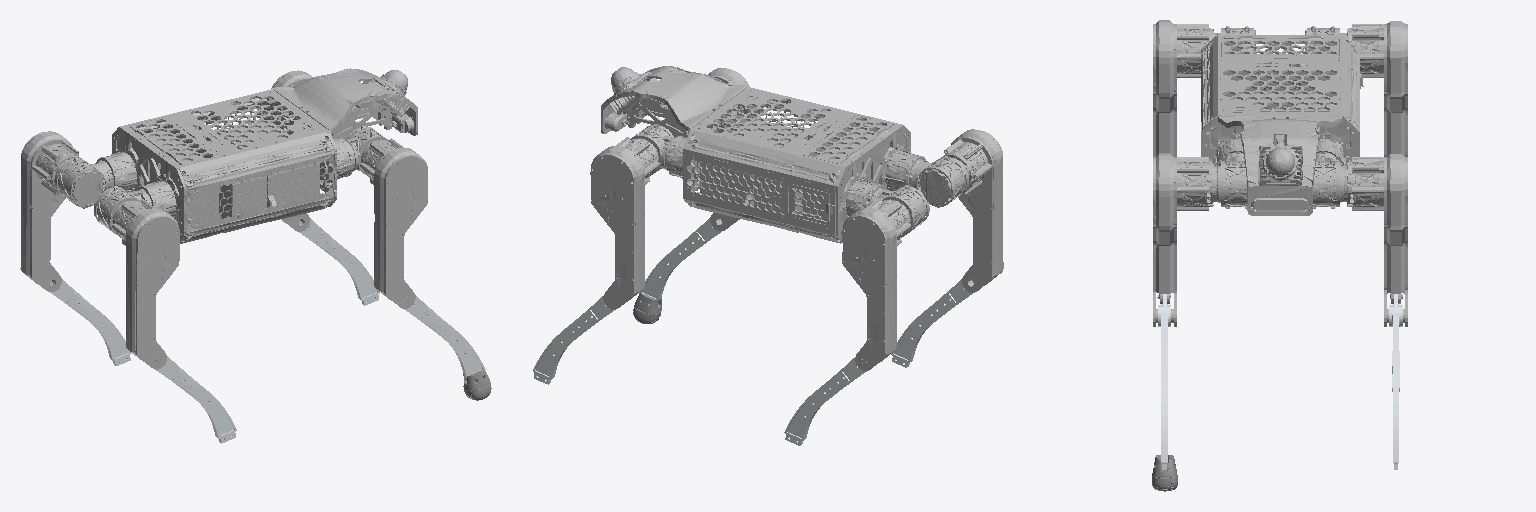
The robot description file, URDF, robot "XLL":
<?xml version='1.0' encoding='utf-8'?>
<robot name="XLL">
  <link name="base">
    <inertial>
      <origin xyz="0.0558821908081006 0.000212772709759213 -0.00906688985785417" rpy="0 0 0" />
      <mass value="12.4033074559808" />
      <inertia ixx="0.033979523541636" ixy="1.59695838267589E-05" ixz="4.89313670215622E-05" iyy="0.0281597859477583" iyz="-2.99195165278591E-08" izz="0.0493041434124839" />
    </inertial>
    <visual>
      <origin xyz="0 0 0" rpy="0 0 0" />
      <geometry>
        <mesh filename="../meshes/base.STL" />
      </geometry>
      <material name="">
        <color rgba="0.752941176470588 0.752941176470588 0.752941176470588 1" />
      </material>
    </visual>
    <collision>
      <origin xyz="0 0 0" rpy="0 0 0" />
      <geometry>
        <box size="0.3 0.23 0.114" />
      </geometry>
    </collision>
    <collision>
      <origin xyz="0.17 0 0" rpy="0 0 0" />
      <geometry>
        <box size="0.04 0.16 0.06" />
      </geometry>
    </collision>
    <collision>
      <origin xyz="-0.17 0 0" rpy="0 0 0" />
      <geometry>
        <box size="0.04 0.16 0.06" />
      </geometry>
    </collision>
    <collision>
      <origin xyz="0.265 0 0.03" rpy="0 0 0" />
      <geometry>
        <box size="0.15 0.04 0.08" />
      </geometry>
    </collision>
  </link>
  <link name="FL_hip">
    <inertial>
      <origin xyz="-0.0030788309760387 -0.000192986711423537 6.385398461815E-07" rpy="0 0 0" />
      <mass value="0.273321358253919" />
      <inertia ixx="0.000170469658066807" ixy="1.09328908943914E-06" ixz="1.27614632712706E-09" iyy="0.000153247164860105" iyz="1.51107150923288E-09" izz="0.00013018859134511" />
    </inertial>
    <visual>
      <origin xyz="0 0 0" rpy="0 0 0" />
      <geometry>
        <mesh filename="../meshes/FL_hip.STL" />
      </geometry>
      <material name="">
        <color rgba="0.752941176470588 0.752941176470588 0.752941176470588 1" />
      </material>
    </visual>
    <collision>
      <origin xyz="0 0.029 0" rpy="1.5708 0 0" />
      <geometry>
        <cylinder length="0.11" radius="0.04" />
      </geometry>
    </collision>
  </link>
  <joint name="FL_hip_joint" type="revolute">
    <origin xyz="0.23795 0.06715 0" rpy="0 0 0" />
    <parent link="base" />
    <child link="FL_hip" />
    <axis xyz="1 0 0" />
    <limit lower="-1" upper="1" effort="31.7" velocity="54.2" />
  </joint>
  <link name="FL_thigh">
    <inertial>
      <origin xyz="-0.00433532877853265 -0.0155239921996572 -0.048306098458353" rpy="0 0 0" />
      <mass value="0.873990207884172" />
      <inertia ixx="0.00223995664377835" ixy="-7.67211783536529E-07" ixz="-0.000167650535834056" iyy="0.00247987266724696" iyz="8.33442611741975E-06" izz="0.000365795325704001" />
    </inertial>
    <visual>
      <origin xyz="0 0 0" rpy="0 0 0" />
      <geometry>
        <mesh filename="../meshes/FL_thigh.STL" />
      </geometry>
      <material name="">
        <color rgba="0.752941176470588 0.752941176470588 0.752941176470588 1" />
      </material>
    </visual>
    <collision>
      <origin xyz="-0.023 0 -0.09" rpy="0 0 0" />
      <geometry>
        <box size="0.04 0.0245 0.2" />
      </geometry>
    </collision>
  </link>
  <joint name="FL_thigh_joint" type="revolute">
    <origin xyz="0 0.10765 0" rpy="0 0 0" />
    <parent link="FL_hip" />
    <child link="FL_thigh" />
    <axis xyz="0 1 0" />
    <limit lower="-1.5708" upper="3.14" effort="31.7" velocity="54.2" />
  </joint>
  <link name="FL_calf">
    <inertial>
      <origin xyz="-0.00331572743524386 -3.00591476809497E-06 -0.0856108639086917" rpy="0 0 0" />
      <mass value="0.180052478123571" />
      <inertia ixx="0.000199099492890255" ixy="-7.3148383507592E-12" ixz="-2.50235432746598E-05" iyy="0.0002175651218616" iyz="-1.42101411111544E-11" izz="1.94724793216801E-05" />
    </inertial>
    <visual>
      <origin xyz="0 0 0" rpy="0 0 0" />
      <geometry>
        <mesh filename="../meshes/FL_calf.STL" />
      </geometry>
      <material name="">
        <color rgba="0.898039215686275 0.917647058823529 0.929411764705882 1" />
      </material>
    </visual>
    <collision>
      <origin xyz="0 0 -0.06" rpy="0 0 0" />
      <geometry>
        <cylinder length="0.15" radius="0.012" />
      </geometry>
    </collision>
    <collision>
      <origin xyz="-0.005 0 -0.16" rpy="0 0.2 0" />
      <geometry>
        <cylinder length="0.07" radius="0.01" />
      </geometry>
    </collision>
    <collision>
      <origin xyz="-0.02 0 -0.21" rpy="0 0.43 0" />
      <geometry>
        <cylinder length="0.05" radius="0.01" />
      </geometry>
    </collision>
  </link>
  <joint name="FL_calf_joint" type="revolute">
    <origin xyz="0 0 -0.22" rpy="0 -0.7854 0" />
    <parent link="FL_thigh" />
    <child link="FL_calf" />
    <axis xyz="0 -1 0" />
    <limit lower="0" upper="2.0" effort="31.7" velocity="54.2" />
  </joint>
  <link name="FL_foot">
    <inertial>
      <origin xyz="0.00435222216282832 0.000209485132817017 0.00666164903492839" rpy="0 0 0" />
      <mass value="0.0539505459073393" />
      <inertia ixx="8.93647735772723E-06" ixy="-2.11704219042064E-08" ixz="1.72795696813679E-06" iyy="8.69432577315701E-06" iyz="-1.60336468078388E-08" izz="9.97051049865325E-06" />
    </inertial>
    <visual>
      <origin xyz="0 0 0" rpy="0 0 0" />
      <geometry>
        <mesh filename="../meshes/FL_foot.STL" />
      </geometry>
      <material name="">
        <color rgba="0.627450980392157 0.627450980392157 0.627450980392157 1" />
      </material>
    </visual>
    <collision>
      <origin xyz="0.0027 0 0.0045" rpy="0 0 0" />
      <geometry>
        <sphere radius="0.022" />
      </geometry>
    </collision>
  </link>
  <joint name="FL_foot_joint" type="fixed">
    <origin xyz="-0.041927 -2.9414E-05 -0.24965" rpy="0 0 0" />
    <parent link="FL_calf" />
    <child link="FL_foot" />
    <axis xyz="0 0 0" />
  </joint>
  <link name="FR_hip">
    <inertial>
      <origin xyz="-0.00307883100175971 0.0654929866354416 -6.3839412120948E-07" rpy="0 0 0" />
      <mass value="0.27332135631531" />
      <inertia ixx="0.000170469656681043" ixy="-1.0932891795337E-06" ixz="-1.27607951573427E-09" iyy="0.000153247163836933" iyz="1.51051760652577E-09" izz="0.000130188590897403" />
    </inertial>
    <visual>
      <origin xyz="0 0 0" rpy="0 0 0" />
      <geometry>
        <mesh filename="../meshes/FR_hip.STL" />
      </geometry>
      <material name="">
        <color rgba="0.752941176470588 0.752941176470588 0.752941176470588 1" />
      </material>
    </visual>
    <collision>
      <origin xyz="0 -0.029 0" rpy="1.5708 0 0" />
      <geometry>
        <cylinder length="0.11" radius="0.04" />
      </geometry>
    </collision>
  </link>
  <joint name="FR_hip_joint" type="revolute">
    <origin xyz="0.23795 -0.06715 0" rpy="0 0 0" />
    <parent link="base" />
    <child link="FR_hip" />
    <axis xyz="1 0 0" />
    <limit lower="-1" upper="1" effort="31.7" velocity="54.2" />
  </joint>
  <link name="FR_thigh">
    <inertial>
      <origin xyz="-0.00433532684943536 0.0155240029909745 -0.0483060708135999" rpy="0 0 0" />
      <mass value="0.873990358055018" />
      <inertia ixx="0.00223995723448991" ixy="7.67016082156441E-07" ixz="-0.000167650609899888" iyy="0.00247987345628721" iyz="-8.33517223873534E-06" izz="0.000365795531780206" />
    </inertial>
    <visual>
      <origin xyz="0 0 0" rpy="0 0 0" />
      <geometry>
        <mesh filename="../meshes/FR_thigh.STL" />
      </geometry>
      <material name="">
        <color rgba="0.752941176470588 0.752941176470588 0.752941176470588 1" />
      </material>
    </visual>
    <collision>
      <origin xyz="-0.023 0 -0.09" rpy="0 0 0" />
      <geometry>
        <box size="0.04 0.0245 0.2" />
      </geometry>
    </collision>
  </link>
  <joint name="FR_thigh_joint" type="revolute">
    <origin xyz="0 -0.10765 0" rpy="0 0 0" />
    <parent link="FR_hip" />
    <child link="FR_thigh" />
    <axis xyz="0 -1 0" />
    <limit lower="-3.14" upper="1.5708" effort="31.7" velocity="54.2" />
  </joint>
  <link name="FR_calf">
    <inertial>
      <origin xyz="-0.00331572743521882 -3.00591476909418E-06 -0.0856108639086975" rpy="0 0 0" />
      <mass value="0.18005247812357" />
      <inertia ixx="0.000199099492890062" ixy="-7.31483739302867E-12" ixz="-2.50235432734895E-05" iyy="0.000217565121860695" iyz="-1.42101407520859E-11" izz="1.9472479320968E-05" />
    </inertial>
    <visual>
      <origin xyz="0 0 0" rpy="0 0 0" />
      <geometry>
        <mesh filename="../meshes/FR_calf.STL" />
      </geometry>
      <material name="">
        <color rgba="0.898039215686275 0.917647058823529 0.929411764705882 1" />
      </material>
    </visual>
    <collision>
      <origin xyz="0 0 -0.06" rpy="0 0 0" />
      <geometry>
        <cylinder length="0.15" radius="0.012" />
      </geometry>
    </collision>
    <collision>
      <origin xyz="-0.005 0 -0.16" rpy="0 0.2 0" />
      <geometry>
        <cylinder length="0.07" radius="0.01" />
      </geometry>
    </collision>
    <collision>
      <origin xyz="-0.02 0 -0.21" rpy="0 0.43 0" />
      <geometry>
        <cylinder length="0.05" radius="0.01" />
      </geometry>
    </collision>
  </link>
  <joint name="FR_calf_joint" type="revolute">
    <origin xyz="0 0 -0.22" rpy="0 -0.7854 0" />
    <parent link="FR_thigh" />
    <child link="FR_calf" />
    <axis xyz="0 1 0" />
    <limit lower="-2.0" upper="0" effort="31.7" velocity="54.2" />
  </joint>
  <link name="FR_foot">
    <inertial>
      <origin xyz="0.00435221954511311 0.000209487552924159 0.00666165086701498" rpy="0 0 0" />
      <mass value="0.0539505369610135" />
      <inertia ixx="8.93647548503893E-06" ixy="-2.1173334186647E-08" ixz="1.72795668488792E-06" iyy="8.69432297972014E-06" iyz="-1.60331242685353E-08" izz="9.97050594684404E-06" />
    </inertial>
    <visual>
      <origin xyz="0 0 0" rpy="0 0 0" />
      <geometry>
        <mesh filename="../meshes/FR_foot.STL" />
      </geometry>
      <material name="">
        <color rgba="0.627450980392157 0.627450980392157 0.627450980392157 1" />
      </material>
    </visual>
    <collision>
      <origin xyz="0.0027 0 0.0045" rpy="0 0 0" />
      <geometry>
        <sphere radius="0.022" />
      </geometry>
    </collision>
  </link>
  <joint name="FR_foot_joint" type="fixed">
    <origin xyz="-0.041927 -2.9414E-05 -0.24965" rpy="0 0 0" />
    <parent link="FR_calf" />
    <child link="FR_foot" />
    <axis xyz="0 0 0" />
  </joint>
  <link name="RL_hip">
    <inertial>
      <origin xyz="0.00307883095867162 -0.000192986731268496 -6.38503533723252E-07" rpy="0 0 0" />
      <mass value="0.273321357831029" />
      <inertia ixx="0.000170469657740266" ixy="-1.09328915428765E-06" ixz="1.27626230551469E-09" iyy="0.000153247164556756" iyz="-1.51121081571005E-09" izz="0.000130188591212165" />
    </inertial>
    <visual>
      <origin xyz="0 0 0" rpy="0 0 0" />
      <geometry>
        <mesh filename="../meshes/RL_hip.STL" />
      </geometry>
      <material name="">
        <color rgba="0.752941176470588 0.752941176470588 0.752941176470588 1" />
      </material>
    </visual>
    <collision>
      <origin xyz="0 0.029 0" rpy="1.5708 0 0" />
      <geometry>
        <cylinder length="0.11" radius="0.04" />
      </geometry>
    </collision>
  </link>
  <joint name="RL_hip_joint" type="revolute">
    <origin xyz="-0.23795 0.06715 0" rpy="0 0 0" />
    <parent link="base" />
    <child link="RL_hip" />
    <axis xyz="-1 0 0" />
    <limit lower="-1" upper="1" effort="31.7" velocity="54.2" />
  </joint>
  <link name="RL_thigh">
    <inertial>
      <origin xyz="-0.00433532862134611 -0.0155239922772493 -0.0483060986316865" rpy="0 0 0" />
      <mass value="0.873990204059775" />
      <inertia ixx="0.00223995663414837" ixy="-7.67212111773808E-07" ixz="-0.000167650541387398" iyy="0.0024798726549262" iyz="8.33442671486562E-06" izz="0.000365795322761307" />
    </inertial>
    <visual>
      <origin xyz="0 0 0" rpy="0 0 0" />
      <geometry>
        <mesh filename="../meshes/RL_thigh.STL" />
      </geometry>
      <material name="">
        <color rgba="0.752941176470588 0.752941176470588 0.752941176470588 1" />
      </material>
    </visual>
    <collision>
      <origin xyz="-0.023 0 -0.09" rpy="0 0 0" />
      <geometry>
        <box size="0.04 0.0245 0.2" />
      </geometry>
    </collision>
  </link>
  <joint name="RL_thigh_joint" type="revolute">
    <origin xyz="0 0.10765 0" rpy="0 0 0" />
    <parent link="RL_hip" />
    <child link="RL_thigh" />
    <axis xyz="0 1 0" />
    <limit lower="-1.5708" upper="3.14" effort="31.7" velocity="54.2" />
  </joint>
  <link name="RL_calf">
    <inertial>
      <origin xyz="-0.00331572743524317 -3.00591476842804E-06 -0.0856108639086944" rpy="0 0 0" />
      <mass value="0.180052478123571" />
      <inertia ixx="0.000199099492890275" ixy="-7.31483728735753E-12" ixz="-2.50235432730088E-05" iyy="0.000217565121861827" iyz="-1.42101407530075E-11" izz="1.94724793218868E-05" />
    </inertial>
    <visual>
      <origin xyz="0 0 0" rpy="0 0 0" />
      <geometry>
        <mesh filename="../meshes/RL_calf.STL" />
      </geometry>
      <material name="">
        <color rgba="0.898039215686275 0.917647058823529 0.929411764705882 1" />
      </material>
    </visual>
    <collision>
      <origin xyz="0 0 -0.06" rpy="0 0 0" />
      <geometry>
        <cylinder length="0.15" radius="0.012" />
      </geometry>
    </collision>
    <collision>
      <origin xyz="-0.005 0 -0.16" rpy="0 0.2 0" />
      <geometry>
        <cylinder length="0.07" radius="0.01" />
      </geometry>
    </collision>
    <collision>
      <origin xyz="-0.02 0 -0.21" rpy="0 0.43 0" />
      <geometry>
        <cylinder length="0.05" radius="0.01" />
      </geometry>
    </collision>
  </link>
  <joint name="RL_calf_joint" type="revolute">
    <origin xyz="0 0 -0.22" rpy="0 -0.7854 0" />
    <parent link="RL_thigh" />
    <child link="RL_calf" />
    <axis xyz="0 -1 0" />
    <limit lower="0" upper="2.0" effort="31.7" velocity="54.2" />
  </joint>
  <link name="RL_foot">
    <inertial>
      <origin xyz="0.00435221925589563 0.000209488144501863 0.00666165162752977" rpy="0 0 0" />
      <mass value="0.0539505347027608" />
      <inertia ixx="8.93647492431815E-06" ixy="-2.11734488791262E-08" ixz="1.7279565112858E-06" iyy="8.69432257495534E-06" iyz="-1.60329440577245E-08" izz="9.97050555589051E-06" />
    </inertial>
    <visual>
      <origin xyz="0 0 0" rpy="0 0 0" />
      <geometry>
        <mesh filename="../meshes/RL_foot.STL" />
      </geometry>
      <material name="">
        <color rgba="0.627450980392157 0.627450980392157 0.627450980392157 1" />
      </material>
    </visual>
    <collision>
      <origin xyz="0.0027 0 0.0045" rpy="0 0 0" />
      <geometry>
        <sphere radius="0.022" />
      </geometry>
    </collision>
  </link>
  <joint name="RL_foot_joint" type="fixed">
    <origin xyz="-0.041927 -2.9414E-05 -0.24965" rpy="0 0 0" />
    <parent link="RL_calf" />
    <child link="RL_foot" />
    <axis xyz="0 0 0" />
  </joint>
  <link name="RR_hip">
    <inertial>
      <origin xyz="0.00307883097603873 0.000192986711423287 6.38539846594365E-07" rpy="0 0 0" />
      <mass value="0.273321358253916" />
      <inertia ixx="0.000170469658066803" ixy="1.09328908943945E-06" ixz="-1.27614632609838E-09" iyy="0.000153247164860103" iyz="-1.51107150854986E-09" izz="0.000130188591345109" />
    </inertial>
    <visual>
      <origin xyz="0 0 0" rpy="0 0 0" />
      <geometry>
        <mesh filename="../meshes/RR_hip.STL" />
      </geometry>
      <material name="">
        <color rgba="0.752941176470588 0.752941176470588 0.752941176470588 1" />
      </material>
    </visual>
    <collision>
      <origin xyz="0 -0.029 0" rpy="1.5708 0 0" />
      <geometry>
        <cylinder length="0.11" radius="0.04" />
      </geometry>
    </collision>
  </link>
  <joint name="RR_hip_joint" type="revolute">
    <origin xyz="-0.23795 -0.06715 0" rpy="0 0 0" />
    <parent link="base" />
    <child link="RR_hip" />
    <axis xyz="-1 0 0" />
    <limit lower="-1" upper="1" effort="31.7" velocity="54.2" />
  </joint>
  <link name="RR_thigh">
    <inertial>
      <origin xyz="-0.00433532688265356 0.0155240029778083 -0.0483060707789748" rpy="0 0 0" />
      <mass value="0.873990359043841" />
      <inertia ixx="0.00223995723635322" ixy="7.67016192172002E-07" ixz="-0.000167650608778639" iyy="0.00247987345881728" iyz="-8.33517241326185E-06" izz="0.000365795532467055" />
    </inertial>
    <visual>
      <origin xyz="0 0 0" rpy="0 0 0" />
      <geometry>
        <mesh filename="../meshes/RR_thigh.STL" />
      </geometry>
      <material name="">
        <color rgba="0.752941176470588 0.752941176470588 0.752941176470588 1" />
      </material>
    </visual>
    <collision>
      <origin xyz="-0.023 0 -0.09" rpy="0 0 0" />
      <geometry>
        <box size="0.04 0.0245 0.2" />
      </geometry>
    </collision>
  </link>
  <joint name="RR_thigh_joint" type="revolute">
    <origin xyz="0 -0.10765 0" rpy="0 0 0" />
    <parent link="RR_hip" />
    <child link="RR_thigh" />
    <axis xyz="0 -1 0" />
    <limit lower="-3.14" upper="1.5708" effort="31.7" velocity="54.2" />
  </joint>
  <link name="RR_calf">
    <inertial>
      <origin xyz="-0.00331572743524233 -3.00591476884438E-06 -0.0856108639087201" rpy="0 0 0" />
      <mass value="0.18005247812357" />
      <inertia ixx="0.000199099492890389" ixy="-7.31483841753758E-12" ixz="-2.50235432734009E-05" iyy="0.000217565121861844" iyz="-1.42101408364333E-11" izz="1.94724793217904E-05" />
    </inertial>
    <visual>
      <origin xyz="0 0 0" rpy="0 0 0" />
      <geometry>
        <mesh filename="../meshes/RR_calf.STL" />
      </geometry>
      <material name="">
        <color rgba="0.898039215686275 0.917647058823529 0.929411764705882 1" />
      </material>
    </visual>
    <collision>
      <origin xyz="0 0 -0.06" rpy="0 0 0" />
      <geometry>
        <cylinder length="0.15" radius="0.012" />
      </geometry>
    </collision>
    <collision>
      <origin xyz="-0.005 0 -0.16" rpy="0 0.2 0" />
      <geometry>
        <cylinder length="0.07" radius="0.01" />
      </geometry>
    </collision>
    <collision>
      <origin xyz="-0.02 0 -0.21" rpy="0 0.43 0" />
      <geometry>
        <cylinder length="0.05" radius="0.01" />
      </geometry>
    </collision>
  </link>
  <joint name="RR_calf_joint" type="revolute">
    <origin xyz="0 0 -0.22" rpy="0 -0.7854 0" />
    <parent link="RR_thigh" />
    <child link="RR_calf" />
    <axis xyz="0 1 0" />
    <limit lower="-2.0" upper="0" effort="31.7" velocity="54.2" />
  </joint>
  <link name="RR_foot">
    <inertial>
      <origin xyz="0.00435221986789719 0.000209487850844986 0.00666165098232338" rpy="0 0 0" />
      <mass value="0.0539505358499527" />
      <inertia ixx="8.93647544867252E-06" ixy="-2.11731122065371E-08" ixz="1.72795654664574E-06" iyy="8.69432266033178E-06" iyz="-1.60331547912814E-08" izz="9.97050559988925E-06" />
    </inertial>
    <visual>
      <origin xyz="0 0 0" rpy="0 0 0" />
      <geometry>
        <mesh filename="../meshes/RR_foot.STL" />
      </geometry>
      <material name="">
        <color rgba="0.627450980392157 0.627450980392157 0.627450980392157 1" />
      </material>
    </visual>
    <collision>
      <origin xyz="0.0027 0 0.0045" rpy="0 0 0" />
      <geometry>
        <sphere radius="0.022" />
      </geometry>
    </collision>
  </link>
  <joint name="RR_foot_joint" type="fixed">
    <origin xyz="-0.041927 -2.9414E-05 -0.24965" rpy="0 0 0" />
    <parent link="RR_calf" />
    <child link="RR_foot" />
    <axis xyz="0 0 0" />
  </joint>
  <link name="imu">
    <inertial>
      <origin xyz="0 0 0" rpy="0 0 0" />
      <mass value="0" />
      <inertia ixx="0" ixy="0" ixz="0" iyy="0" iyz="0" izz="0" />
    </inertial>
  </link>
  <joint name="imu_joint" type="fixed">
    <origin xyz="0 0 0.028" rpy="0 0 0" />
    <parent link="base" />
    <child link="imu" />
    <axis xyz="0 0 0" />
  </joint>
  <link name="radar">
    <inertial>
      <origin xyz="0 0 0" rpy="0 0 0" />
      <mass value="0" />
      <inertia ixx="0" ixy="0" ixz="0" iyy="0" iyz="0" izz="0" />
    </inertial>
  </link>
  <joint name="radar_joint" type="fixed">
    <origin xyz="0.33231 0 0.083234" rpy="0 0.7854 0" />
    <parent link="base" />
    <child link="radar" />
    <axis xyz="0 0 0" />
  </joint>
</robot>

--- Facts derived from the render (not from the file) ---
3 views of the same robot in one strip: view 1: azimuth 30°, elevation 25°; view 2: azimuth 150°, elevation 25°; view 3: azimuth 270°, elevation 25° (orthographic).
Robot: XLL — 19 links, 18 joints (12 revolute, 6 fixed); root link base; default pose: every joint at zero.
Links seen in each view (by area): view 1: base, FR_thigh, RR_thigh, RL_thigh, RL_hip, RR_calf, RL_calf, FL_calf, FR_calf, RR_hip, FR_hip, FL_thigh (+1 smaller); view 2: base, RL_thigh, FL_thigh, RR_thigh, RR_hip, RL_calf, FL_calf, RR_calf, FR_calf, RL_hip, FL_hip, FR_thigh (+1 smaller); view 3: base, FL_thigh, FR_thigh, RR_thigh, RL_thigh, FR_hip, FL_hip, FR_calf, FL_calf, FR_foot.
Link boxes in pixels (x1,y1,x2,y2): base: (96, 68, 417, 243); FR_thigh: (360, 138, 427, 308); RR_thigh: (112, 199, 179, 369); RL_thigh: (20, 131, 81, 291); RL_hip: (54, 157, 109, 208); RR_calf: (156, 356, 236, 443); RL_calf: (50, 279, 131, 365); FL_calf: (299, 218, 379, 305); FR_calf: (404, 296, 485, 377); RR_hip: (94, 186, 145, 234); FR_hip: (345, 125, 388, 174); FL_thigh: (271, 70, 312, 231); base: (601, 66, 925, 243); RL_thigh: (842, 198, 910, 370); FL_thigh: (590, 137, 659, 309); RR_thigh: (941, 129, 1003, 292); RR_hip: (913, 156, 968, 207); RL_calf: (784, 358, 866, 445); FL_calf: (533, 296, 613, 384); RR_calf: (891, 279, 972, 367); FR_calf: (639, 218, 721, 300); RL_hip: (876, 185, 929, 234); FL_hip: (630, 124, 674, 172); FR_thigh: (708, 68, 749, 230); base: (1201, 35, 1363, 215); FL_thigh: (1344, 154, 1407, 326); FR_thigh: (1153, 153, 1215, 326); RR_thigh: (1153, 20, 1215, 156); RL_thigh: (1344, 21, 1407, 156); FR_hip: (1216, 157, 1251, 208); FL_hip: (1309, 157, 1343, 208); FR_calf: (1158, 294, 1170, 469); FL_calf: (1389, 294, 1402, 469); FR_foot: (1152, 455, 1177, 491).
Size in the robot's own frame: 0.6913 by 0.3878 by 0.5422 metres.
14 mesh visuals loaded from 17 distinct referenced files (14 binary STL); not drawn: 3 (reference not matched to a file when rendering).
